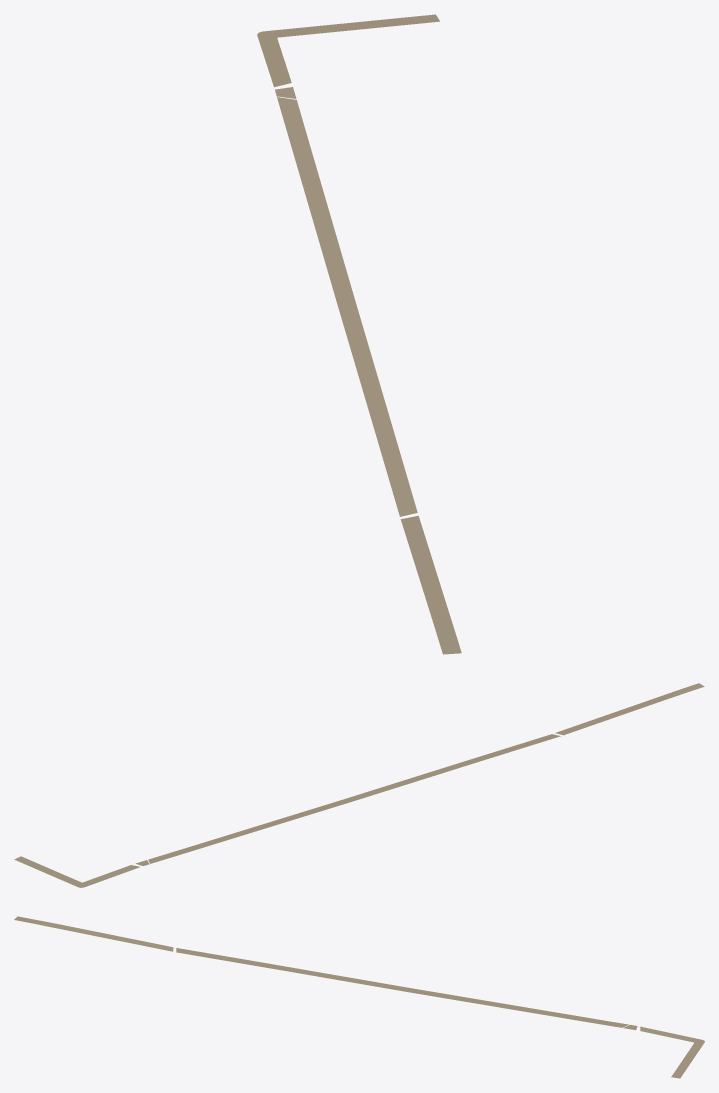
The model's file is farm_22_39_track.glb.
3 views of the same model, one above another, from view 1: azimuth 30°, elevation 25°; view 2: azimuth 150°, elevation 25°; view 3: azimuth 270°, elevation 25° (orthographic). The views are drawn at different scales.
Visible parts, largest first — view 1: geometry_0; view 2: geometry_0; view 3: geometry_0.
Boxes of the visible parts, left/top/right/bottom form: geometry_0: left=257, top=14, right=461, bottom=654; geometry_0: left=14, top=683, right=704, bottom=887; geometry_0: left=14, top=916, right=704, bottom=1078.
Bounding box in the file's own units: 131 × 1.52 × 238.
